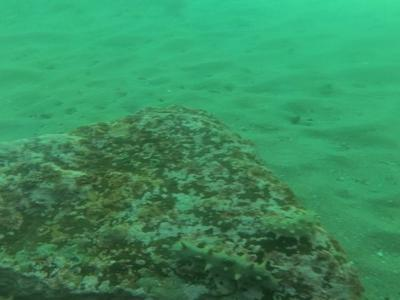holothurian: (174, 238, 281, 292), (259, 213, 325, 244)
